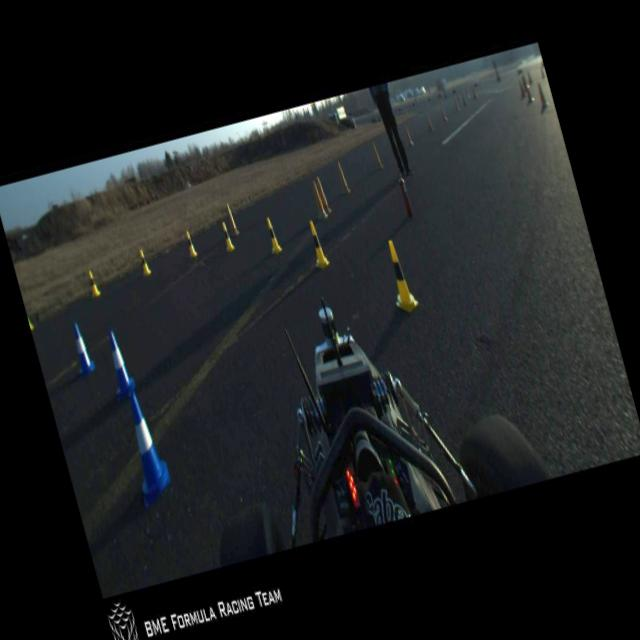blue_cone: (116, 388, 174, 503), (101, 326, 138, 399), (66, 320, 96, 376)
unknown_cone: (308, 178, 328, 219), (315, 175, 332, 214)
yellow_cone: (380, 238, 420, 314), (305, 219, 330, 269), (263, 216, 282, 253), (220, 220, 234, 250), (86, 268, 100, 296), (184, 230, 197, 257), (138, 248, 150, 274)
